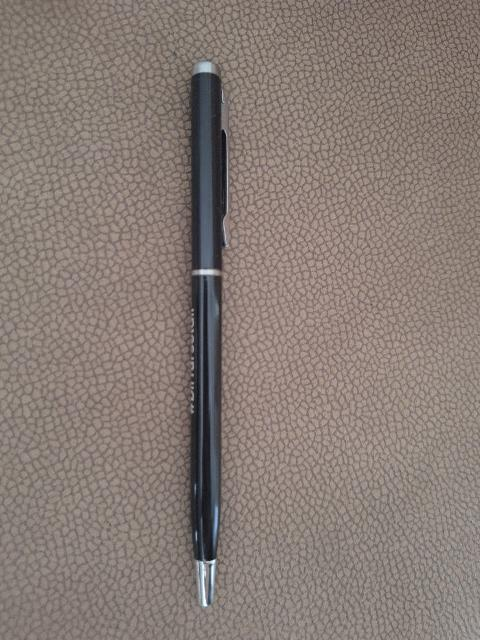writing_tool: (178, 60, 236, 613)
